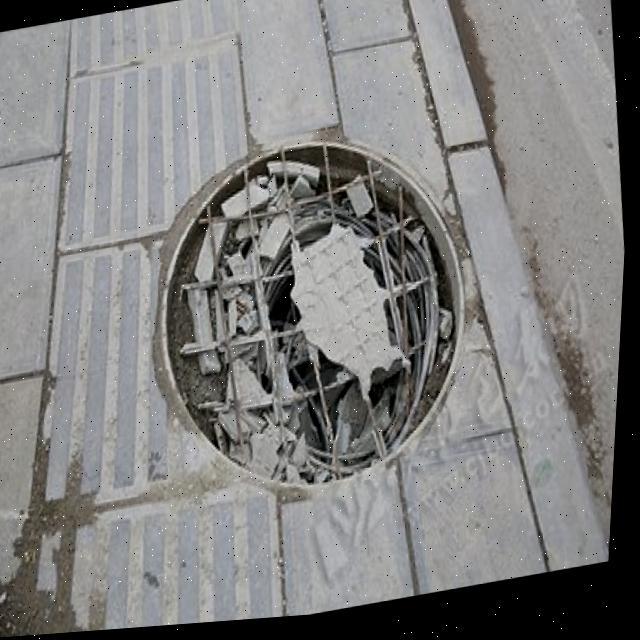manhole: (121, 104, 500, 527)
